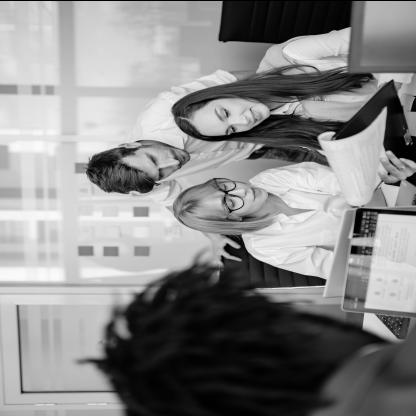Eye: (219, 107, 231, 117), (147, 154, 157, 164), (156, 168, 166, 178), (228, 198, 236, 208), (219, 184, 228, 190), (228, 126, 237, 132)
Mouth: (247, 108, 262, 122), (249, 186, 260, 200)
Nose: (158, 158, 180, 168), (229, 114, 250, 124), (227, 187, 247, 197)
